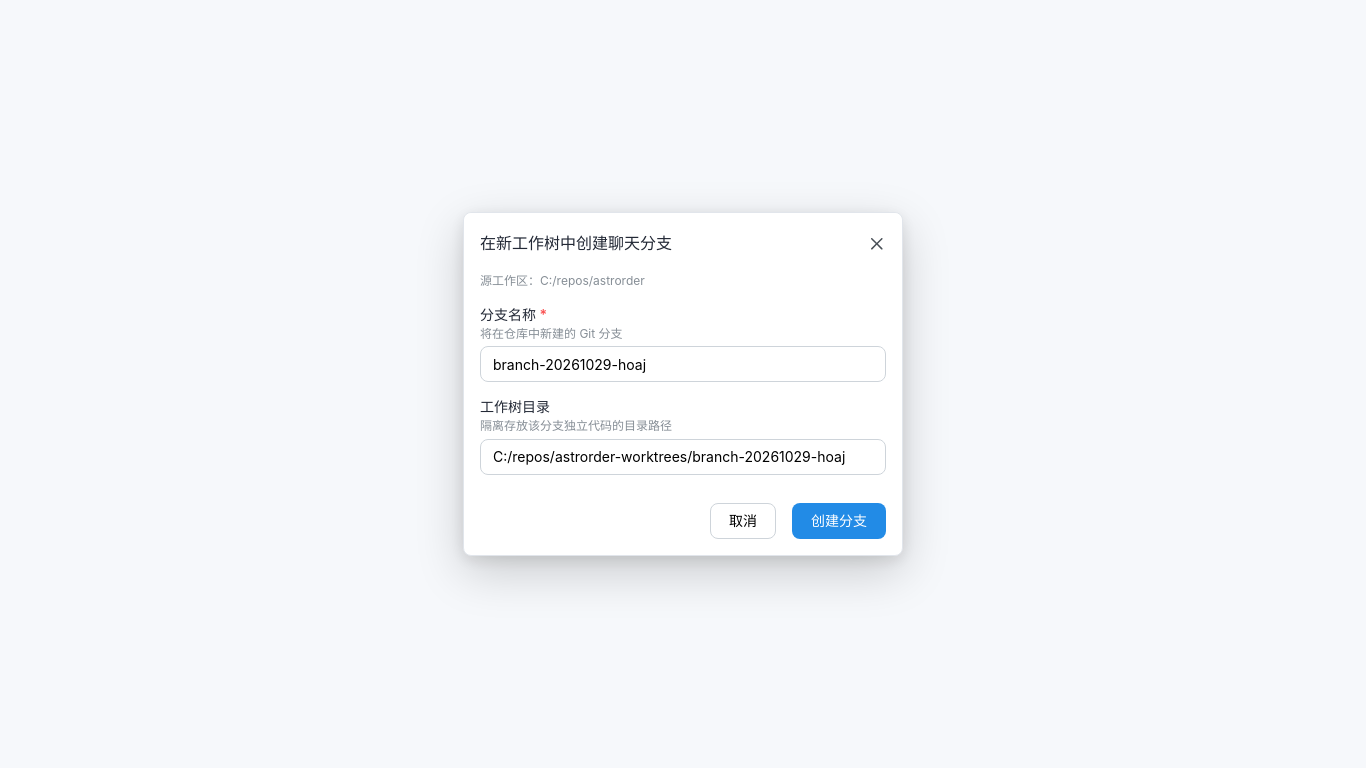
Test: ForkWorktreeDialog › renders with pre-populated branch and linked worktree directory
Expected: the dialog "在新工作树中创建聊天分支" is shown, [463,212,903,556]
Expected: the text "源工作区：C:/repos/astrorder" is shown, [480,273,645,288]
# Test dynamic update of path when branch changes
Replace the text in the field labelled "分支名称 *" with "feature/dark-mode" at (683, 364), box [480,346,886,382]
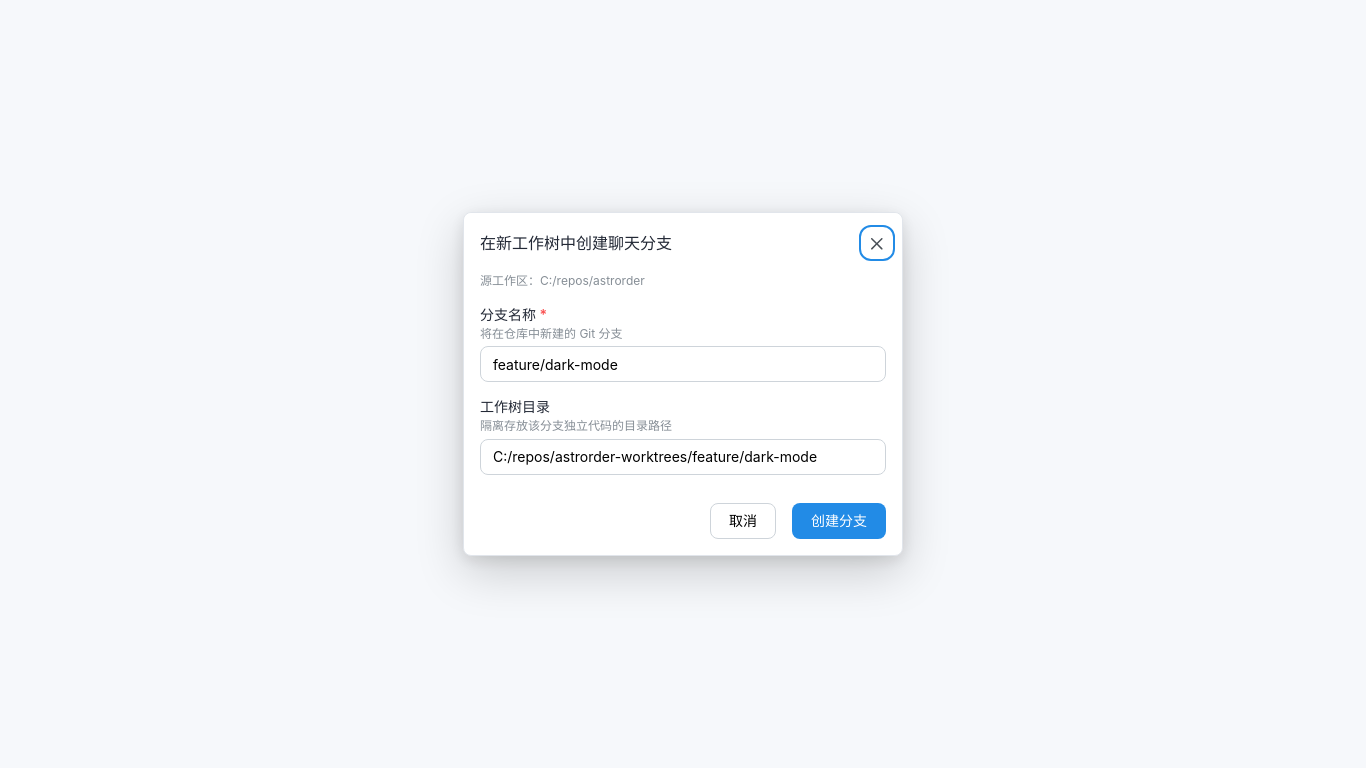
Expected: the field labelled "工作树目录" holds "C:/repos/astrorder-worktrees/feature/dark-mode", [480,439,886,475]
